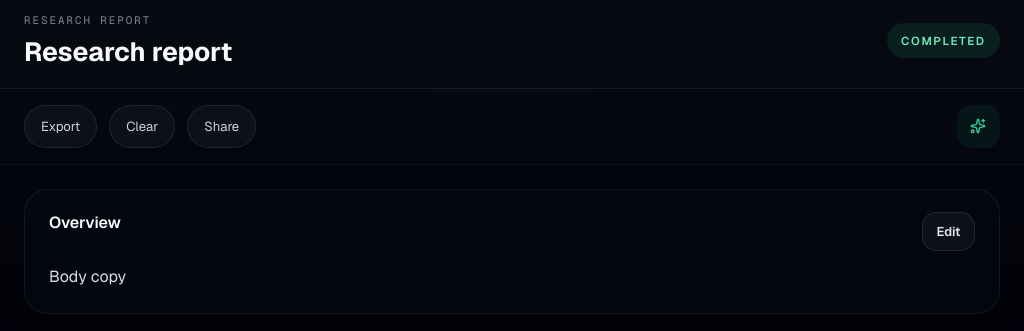
Test: clears the report snapshot for the active run
Click the button "Clear" at (142, 126), box 109,105 -> 175,148
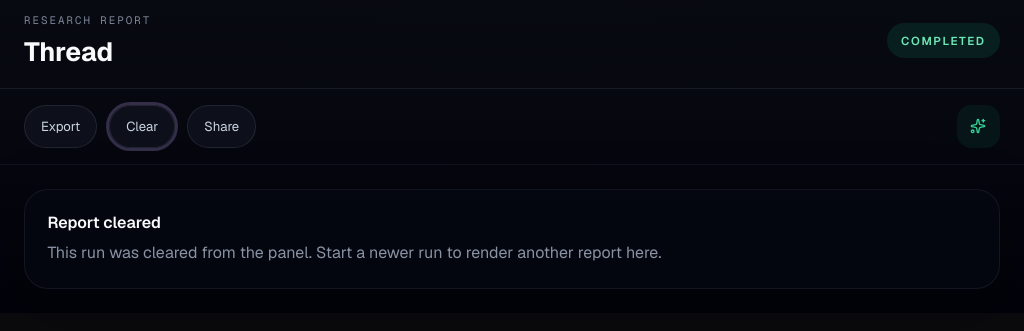
Expected: the text "Report cleared" is shown, 47,212 -> 161,232
